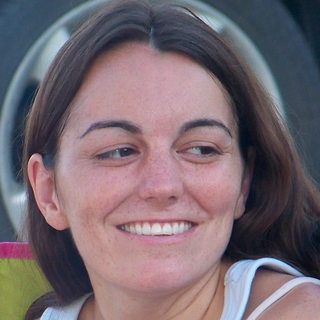eye: (90, 141, 144, 167), (169, 139, 225, 162)
